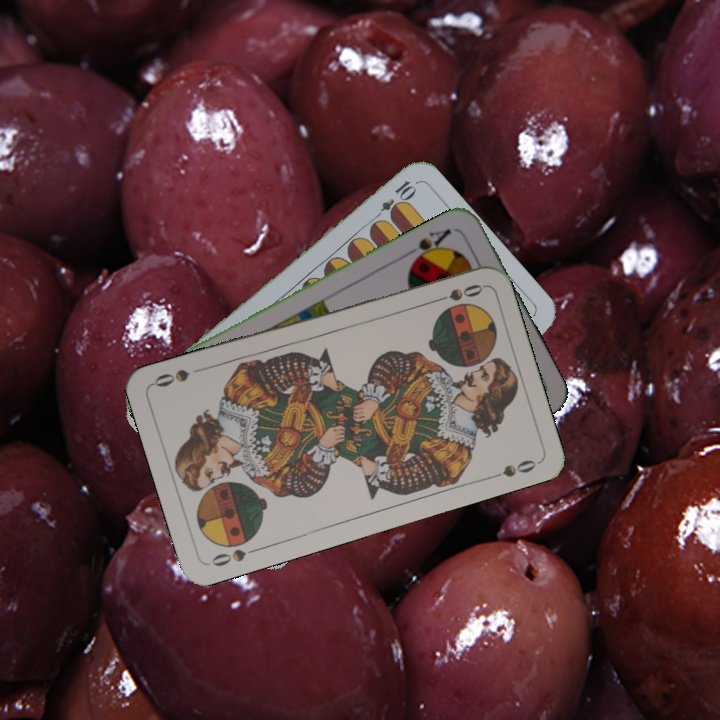E10: (368, 176, 418, 225)
SA: (402, 224, 454, 267)
SO: (427, 280, 486, 306), (205, 543, 263, 569)
